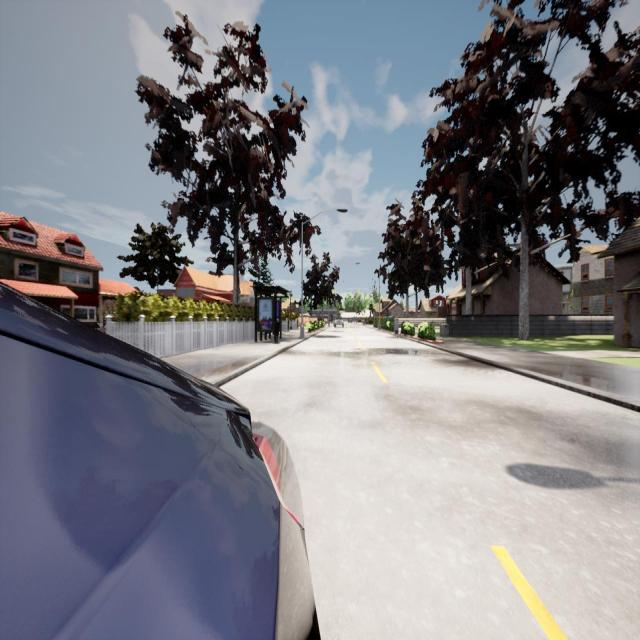Vehicle: (0, 284, 318, 638), (334, 315, 344, 328), (348, 318, 352, 324)
